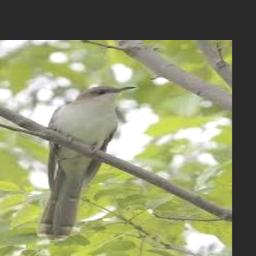Cuckoo: (37, 85, 135, 239)
